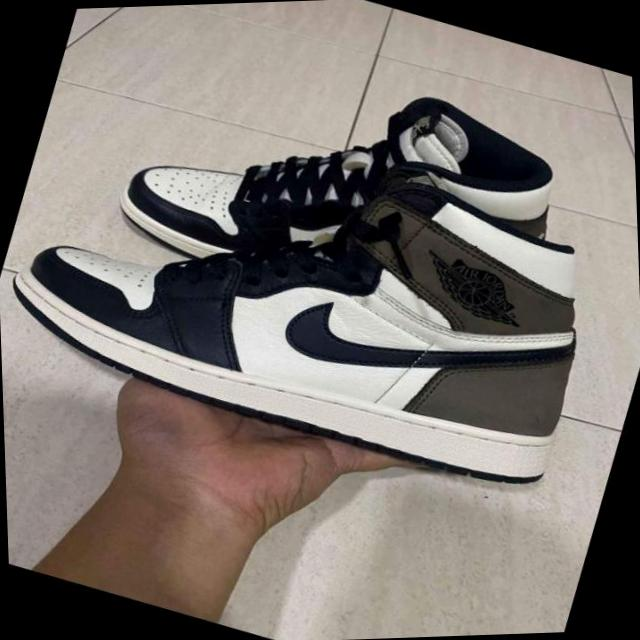nike_original_jordan: (0, 67, 623, 518), (95, 5, 588, 369)
